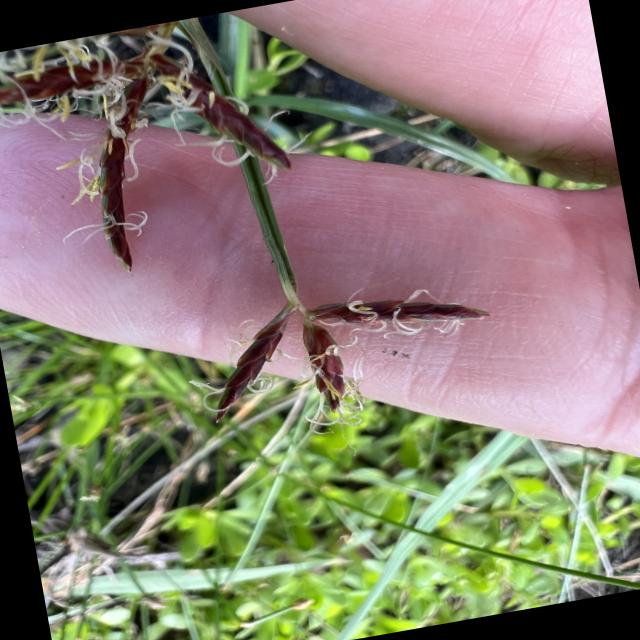cyperus: (0, 0, 502, 509), (0, 0, 334, 292), (154, 236, 504, 458)
